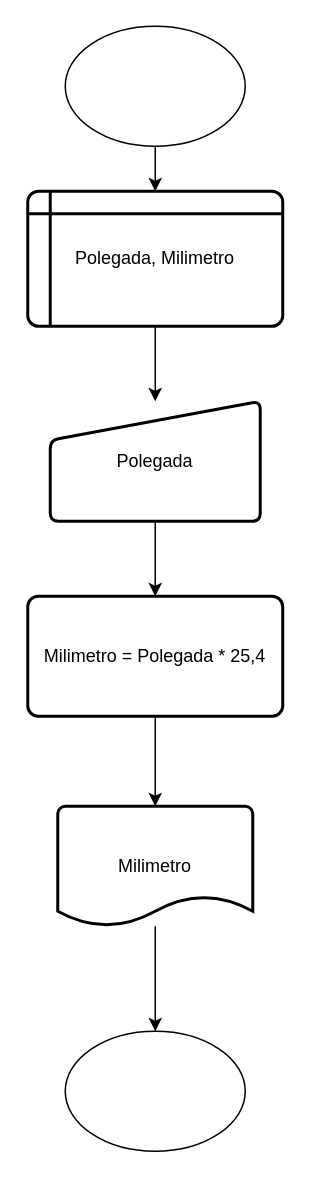
This 309x1178 diagram has some shape labels left out. Here are the shapes that lost their labels. From the top down, the centre of each, then its label:
At point (154, 85): "Start".
At point (154, 1090): "End".
